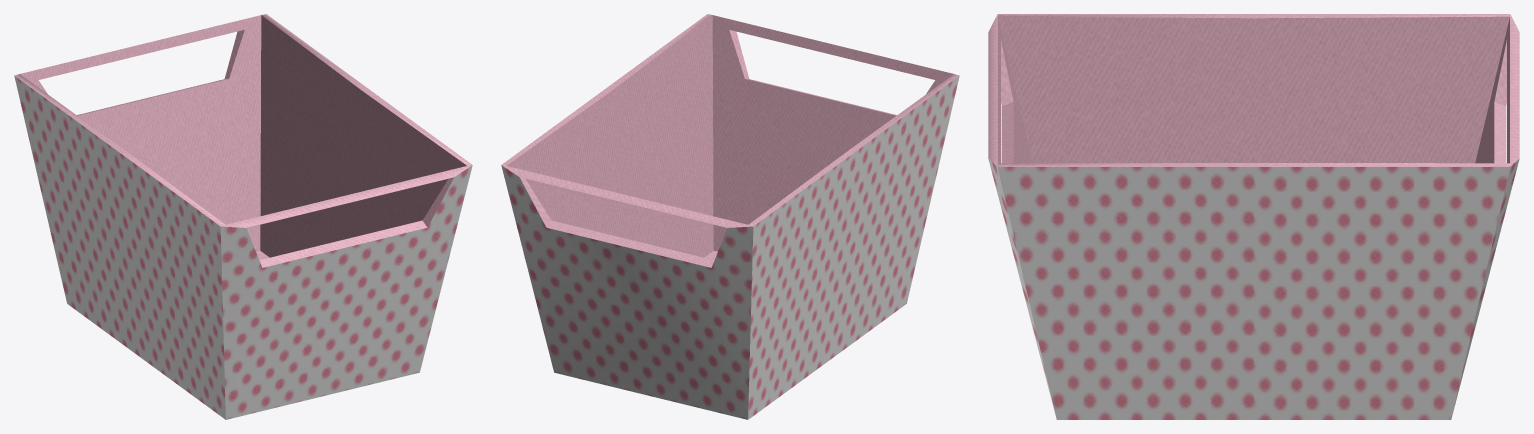
File: Storage_Bin_D.FBX
The picture shows the model from 3 angles, left to right: view 1: azimuth 30°, elevation 25°; view 2: azimuth 150°, elevation 25°; view 3: azimuth 270°, elevation 25°; orthographic projection. The views are drawn at different scales.
Visible parts, largest first — view 1: Storage_Bin; view 2: Storage_Bin; view 3: Storage_Bin.
Boxes of the visible parts, x1,y1,x2,y2 form: Storage_Bin: (14, 14, 472, 419); Storage_Bin: (501, 14, 959, 419); Storage_Bin: (988, 14, 1519, 419).
Size of the model in its own units: 84.75 by 70.11 by 125.
